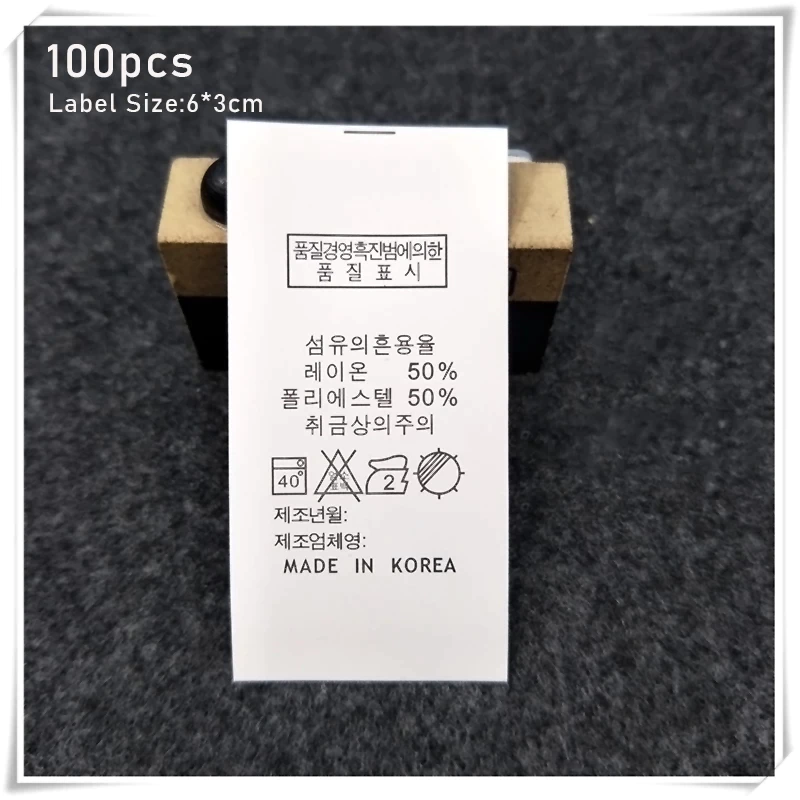KR_no_chlorine_bleach: (311, 444, 365, 502)
KR_wash_40: (264, 449, 311, 501)
